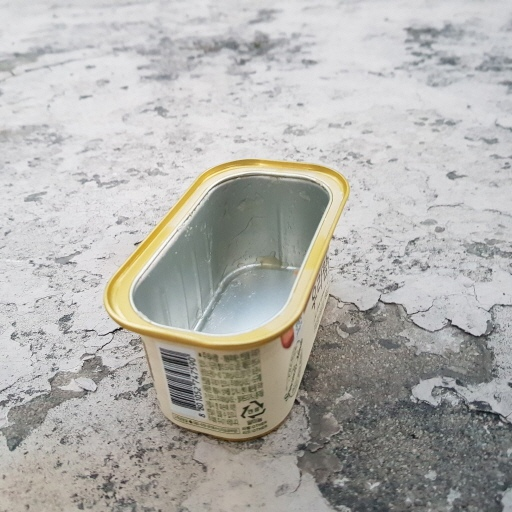Metal_2: (105, 156, 351, 439)
